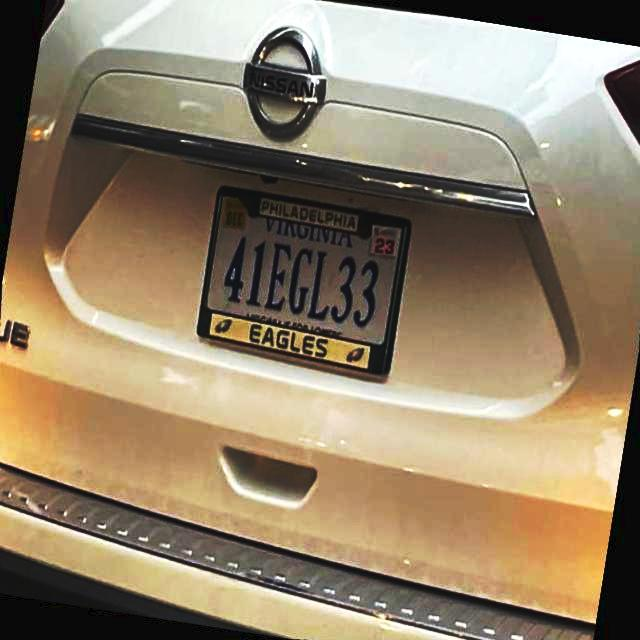license_plate: (198, 187, 415, 384)
